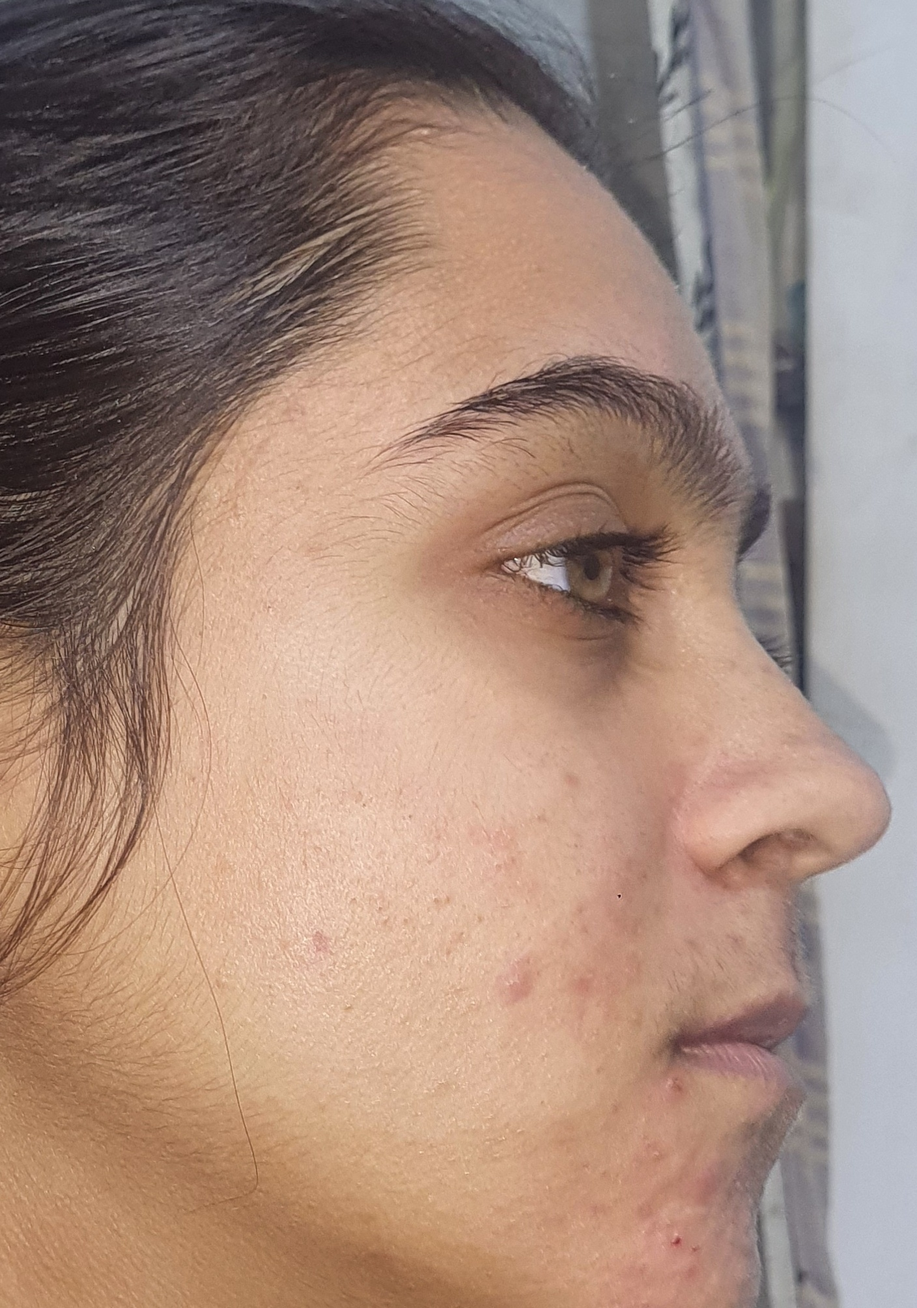papule: (478, 949, 575, 1035), (648, 1052, 700, 1132), (636, 1208, 702, 1268)
